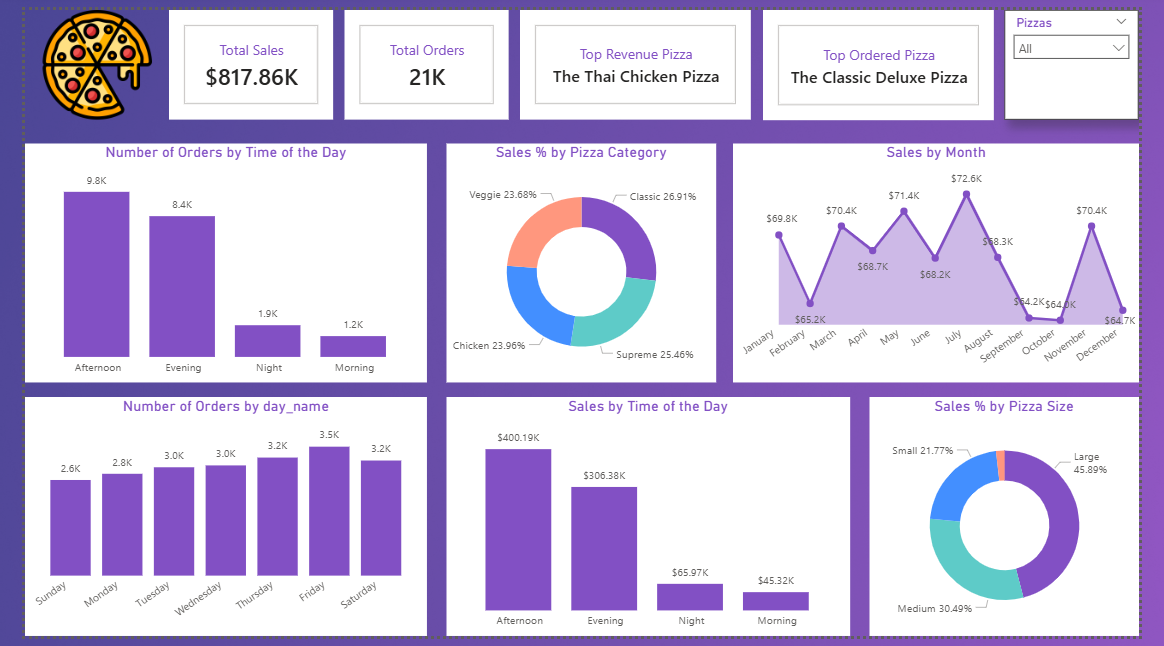

Layout of this report page (visuals, bound fields, positions):
{"tool":"powerbi","page":{"name":"Pizza Sales","canvas":[1280,720],"ordinal":0},"visuals":[{"type":"columnChart","fields":{"Category":["orders.day_part"],"Y":["CountNonNull(orders.order_id)"]},"box":[0,154.1,462.2,275],"z":0},{"type":"cardVisual","fields":{"Data":["order_details.total_sales"]},"box":[165.6,0,188.8,125.9],"z":1000},{"type":"columnChart","fields":{"Y":["CountNonNull(orders.order_id)"],"Category":["orders.day_name"]},"box":[0,445.6,462.2,275],"z":2000},{"type":"cardVisual","fields":{"Data":["orders.total_orders"]},"box":[367.7,0,188.8,125.9],"z":3000},{"type":"columnChart","fields":{"Category":["orders.day_part"],"Y":["Sum(order_details.sales)"]},"box":[483.7,445.6,463.8,275],"z":4000},{"type":"donutChart","fields":{"Y":["Sum(order_details.sales)"],"Category":["pizza_types.category"]},"box":[483.7,154.1,309.8,275],"z":5000},{"type":"donutChart","fields":{"Y":["Sum(order_details.sales)"],"Category":["pizzas.pizza_size"]},"box":[970.7,445.6,309.8,275],"z":6000},{"type":"slicer","fields":{"Values":["pizza_types.name"]},"box":[1126.4,0,154.1,125.9],"z":7000},{"type":"cardVisual","fields":{"Data":["order_details.most_ordered_pizza"]},"box":[848.3,0,265,126.7],"z":8000},{"type":"cardVisual","fields":{"Data":["order_details.hot_selling_pizza"]},"box":[568.2,0,265,125.9],"z":9000},{"type":"areaChart","fields":{"Y":["Sum(order_details.sales)"],"Category":["orders.month_name"]},"box":[813.3,154.1,467.1,275],"z":10000},{"type":"image","box":[0,0,165.6,125.9],"z":11000}]}

Visuals, with their boxes in screenshot pixels (x1, y1, x2, y2), scaled from the page's 1280x720 canvas onto the 1164x646 screenshot:
columnChart - orders.day_part x CountNonNull(orders.order_id): x1=0, y1=138, x2=420, y2=385
cardVisual - order_details.total_sales: x1=151, y1=0, x2=322, y2=113
columnChart - CountNonNull(orders.order_id) x orders.day_name: x1=0, y1=400, x2=420, y2=645
cardVisual - orders.total_orders: x1=334, y1=0, x2=506, y2=113
columnChart - orders.day_part x Sum(order_details.sales): x1=440, y1=400, x2=862, y2=645
donutChart - Sum(order_details.sales) x pizza_types.category: x1=440, y1=138, x2=722, y2=385
donutChart - Sum(order_details.sales) x pizzas.pizza_size: x1=883, y1=400, x2=1163, y2=645
slicer - pizza_types.name: x1=1024, y1=0, x2=1163, y2=113
cardVisual - order_details.most_ordered_pizza: x1=771, y1=0, x2=1012, y2=114
cardVisual - order_details.hot_selling_pizza: x1=517, y1=0, x2=758, y2=113
areaChart - Sum(order_details.sales) x orders.month_name: x1=740, y1=138, x2=1163, y2=385
image: x1=0, y1=0, x2=151, y2=113
